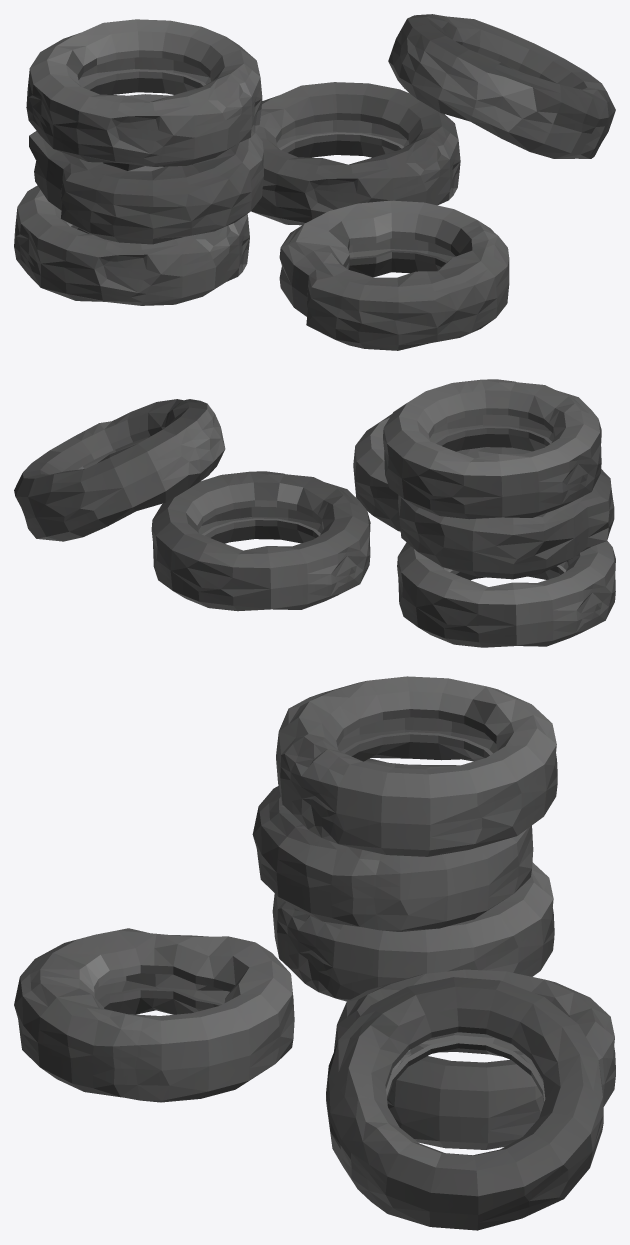
Rendered from tire_cluster.obj.
3 renders of one model, top to bottom at view 1: azimuth 30°, elevation 25°; view 2: azimuth 150°, elevation 25°; view 3: azimuth 270°, elevation 25°, orthographic. The views are drawn at different scales.
Parts seen in each view (by area): view 1: tire_cluster_Mesh; view 2: tire_cluster_Mesh; view 3: tire_cluster_Mesh.
Part boxes in pixels (x1,y1,x2,y2): tire_cluster_Mesh: (14,14,615,350); tire_cluster_Mesh: (14,379,615,647); tire_cluster_Mesh: (14,676,615,1230).
Bounding box in the file's own units: 3.33 × 1.12 × 2.44.
